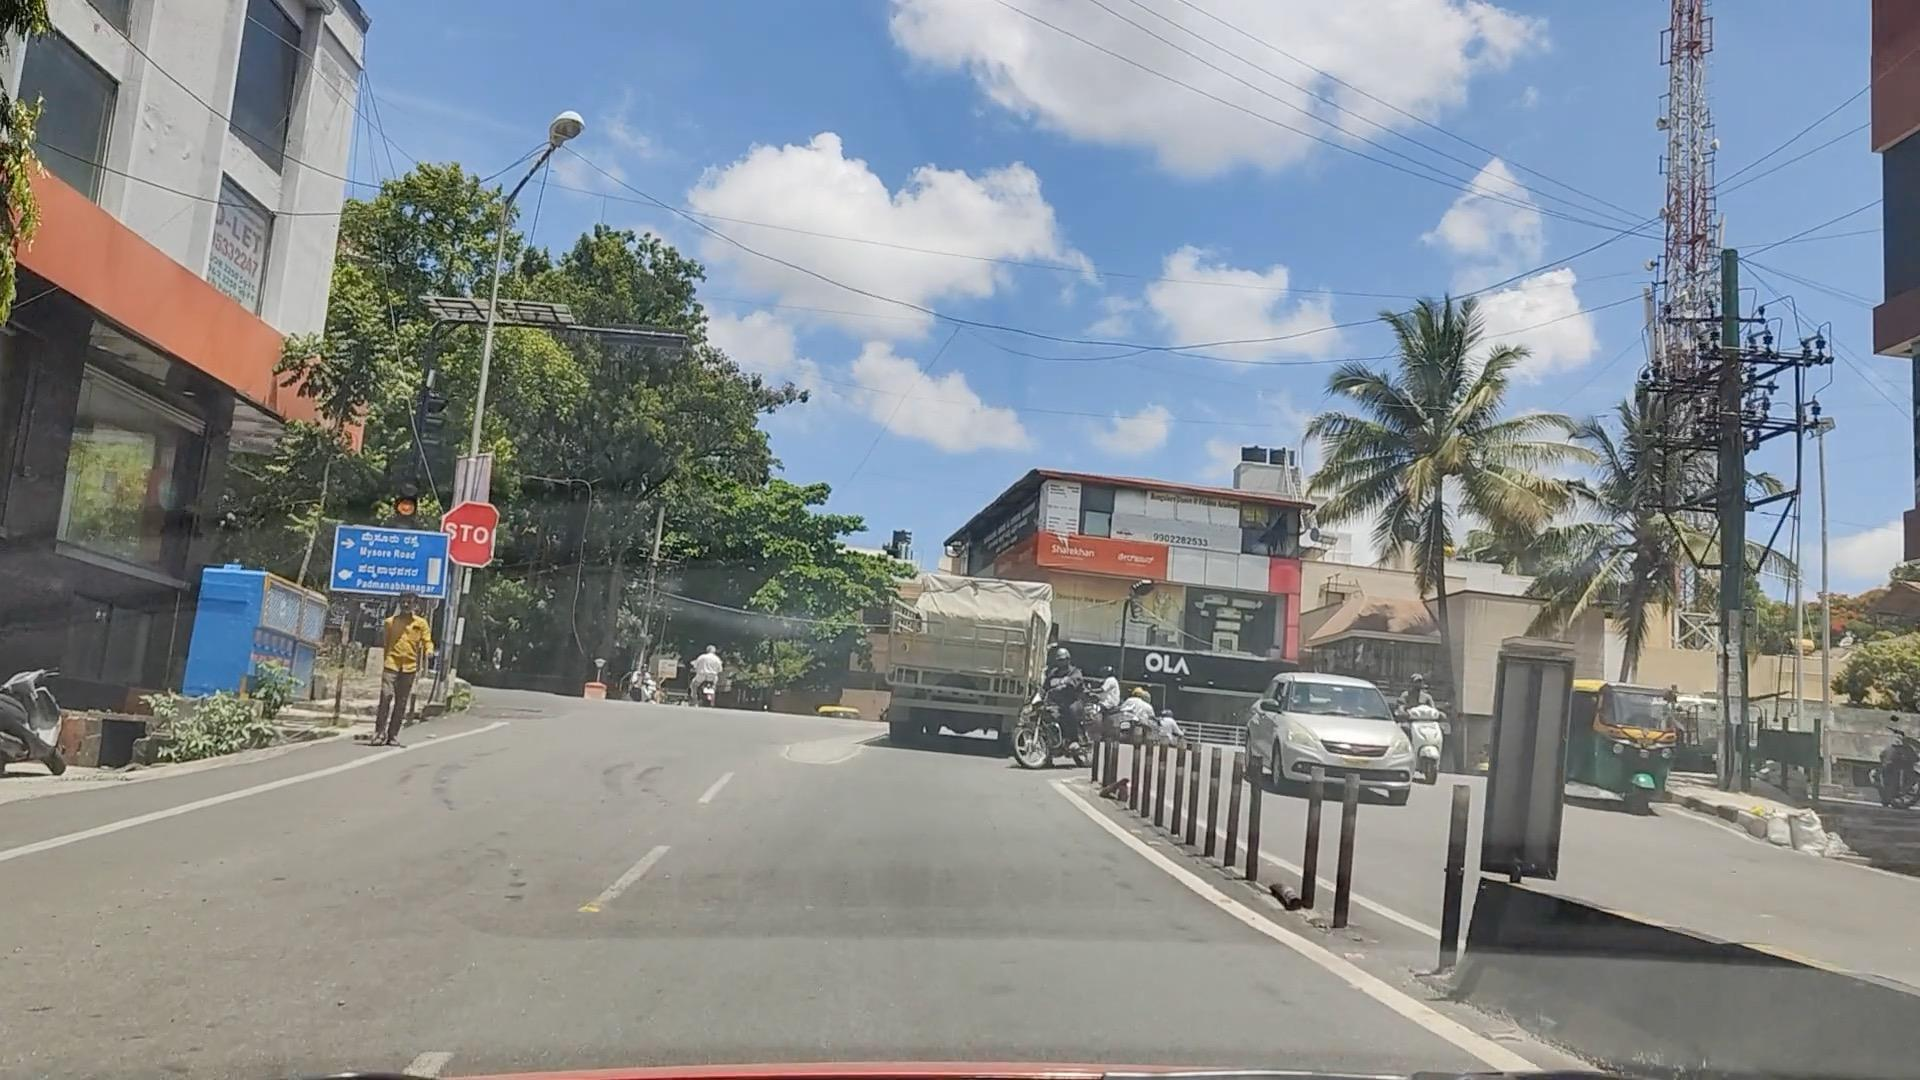HMV: (893, 574, 1040, 735)
